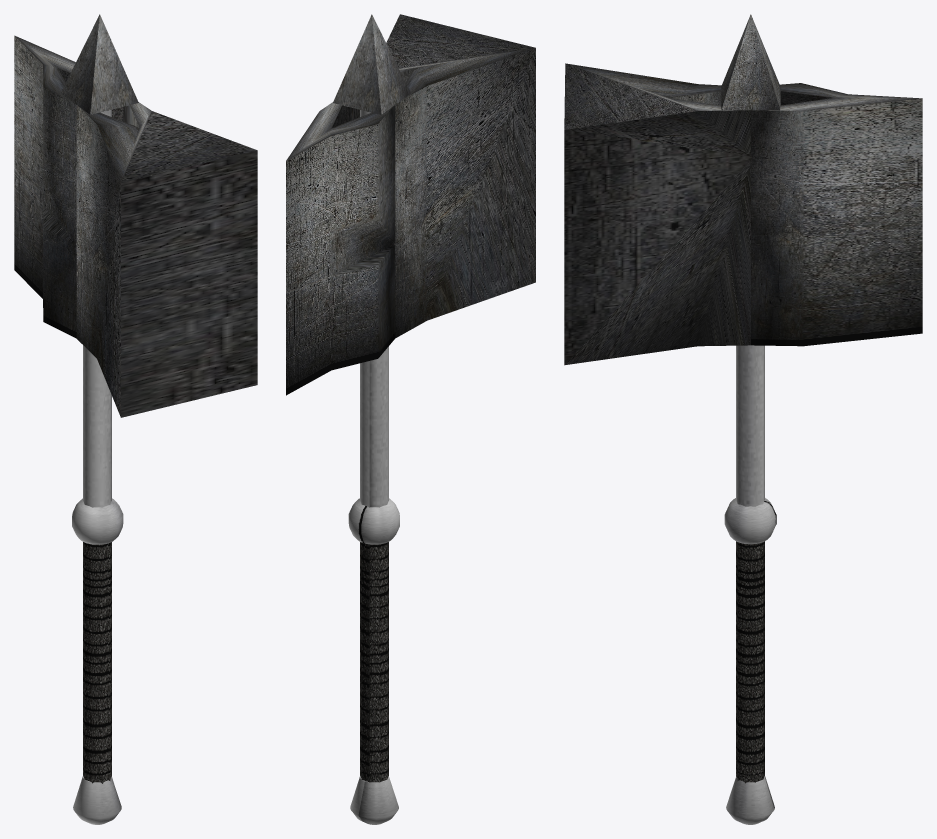
The model's file is GravHam.FBX.
The picture shows the model from 3 angles, left to right: view 1: azimuth 30°, elevation 25°; view 2: azimuth 150°, elevation 25°; view 3: azimuth 270°, elevation 25°; orthographic projection.
Parts seen in each view (by area): view 1: Cylinder001; view 2: Cylinder001; view 3: Cylinder001.
Part boxes in pixels (left/top/right/bottom): Cylinder001: left=14, top=14, right=257, bottom=824; Cylinder001: left=286, top=14, right=535, bottom=824; Cylinder001: left=564, top=14, right=922, bottom=824.
Size of the model in its own units: 8.48 by 48.05 by 19.27.
